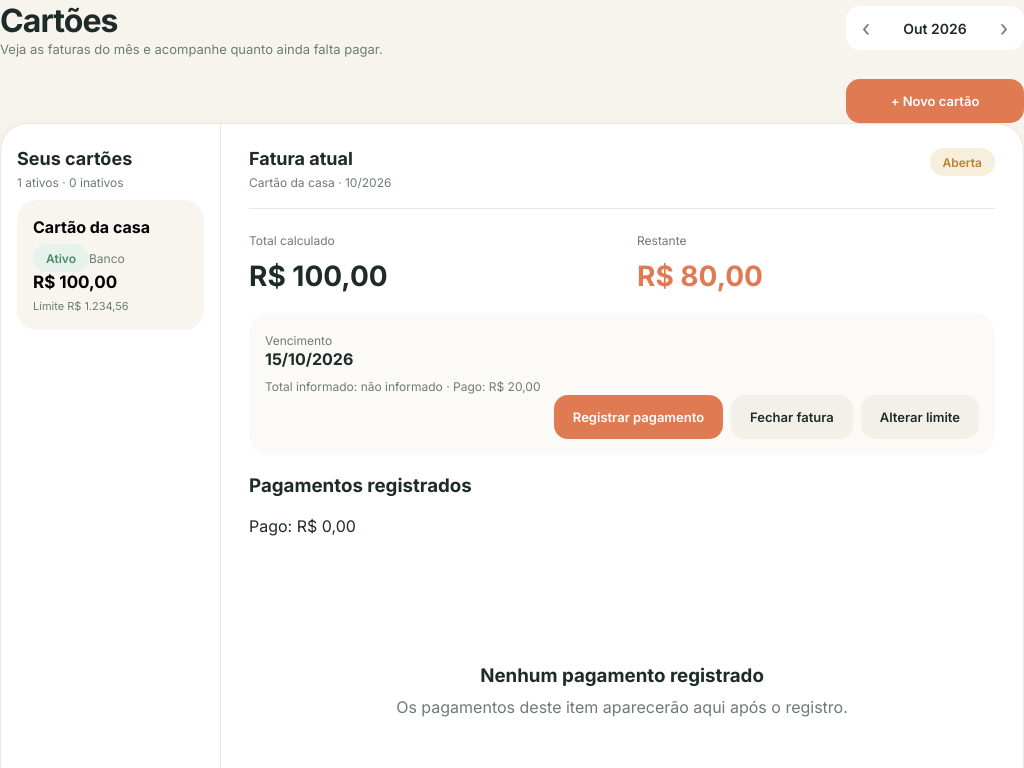
Test case: preenche o ajuste com o limite atual
Click the button "Alterar limite" at coordinates (920, 417), box [861,395,979,439]
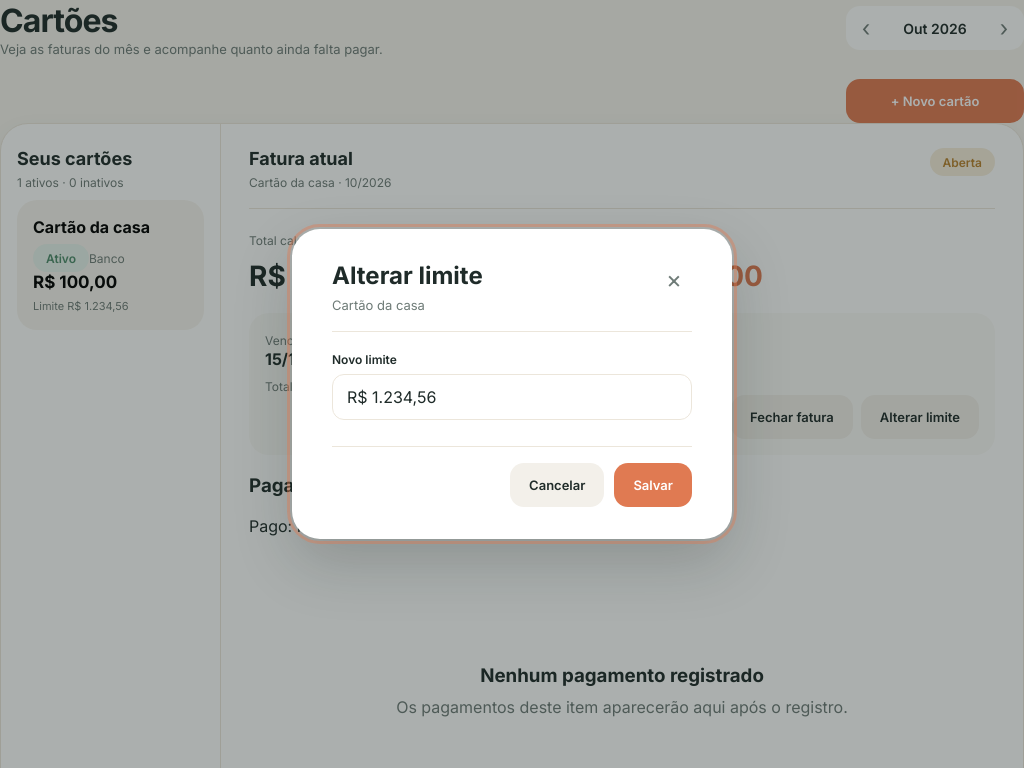
Result: the field labelled "Novo limite" holds "R$ 1.234,56" at [332,374,692,420]
